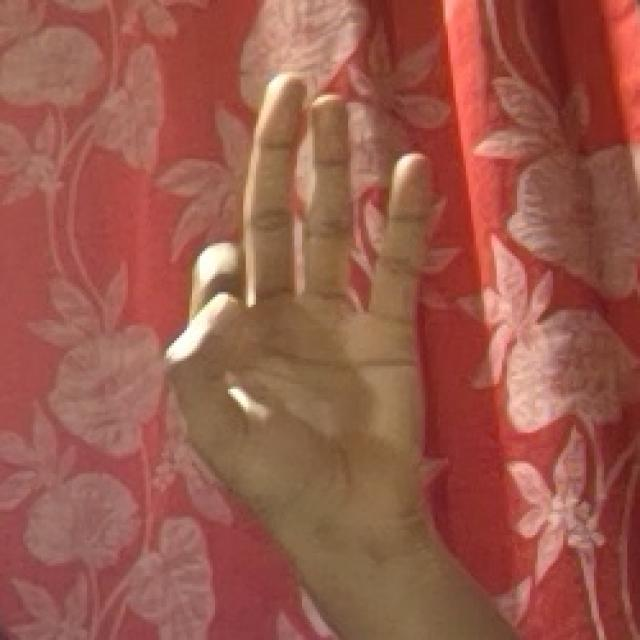Numeric-9: (160, 68, 430, 547)
